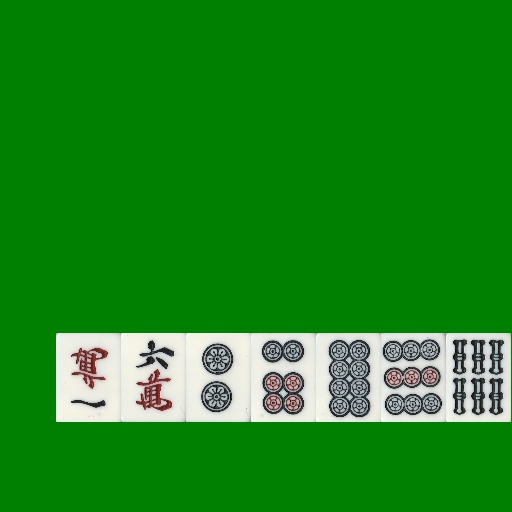1m: (56, 333, 121, 422)
2p: (186, 333, 251, 422)
6m: (121, 333, 186, 422)
6p: (251, 333, 316, 422)
6s: (446, 333, 511, 422)
8p: (316, 333, 381, 422)
9p: (381, 333, 446, 422)
